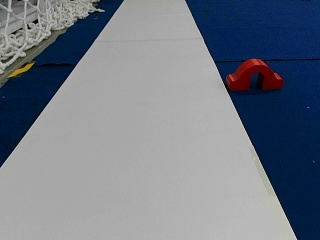bridge: (228, 59, 282, 89)
